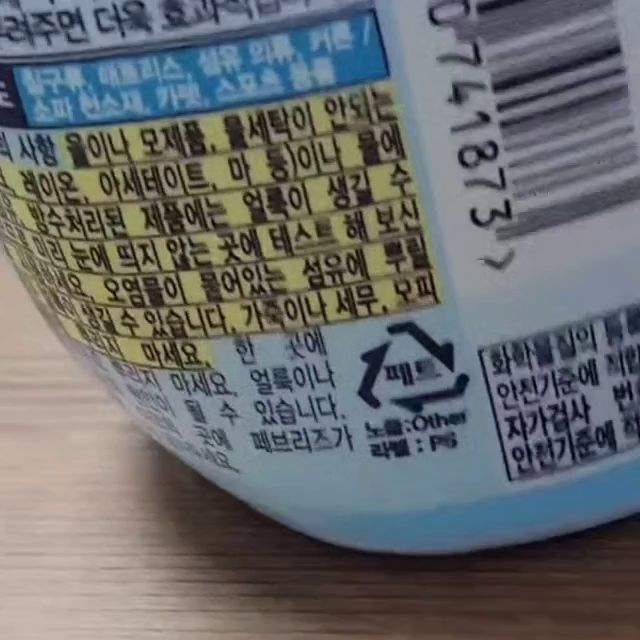Plastic: (355, 318, 472, 415)
